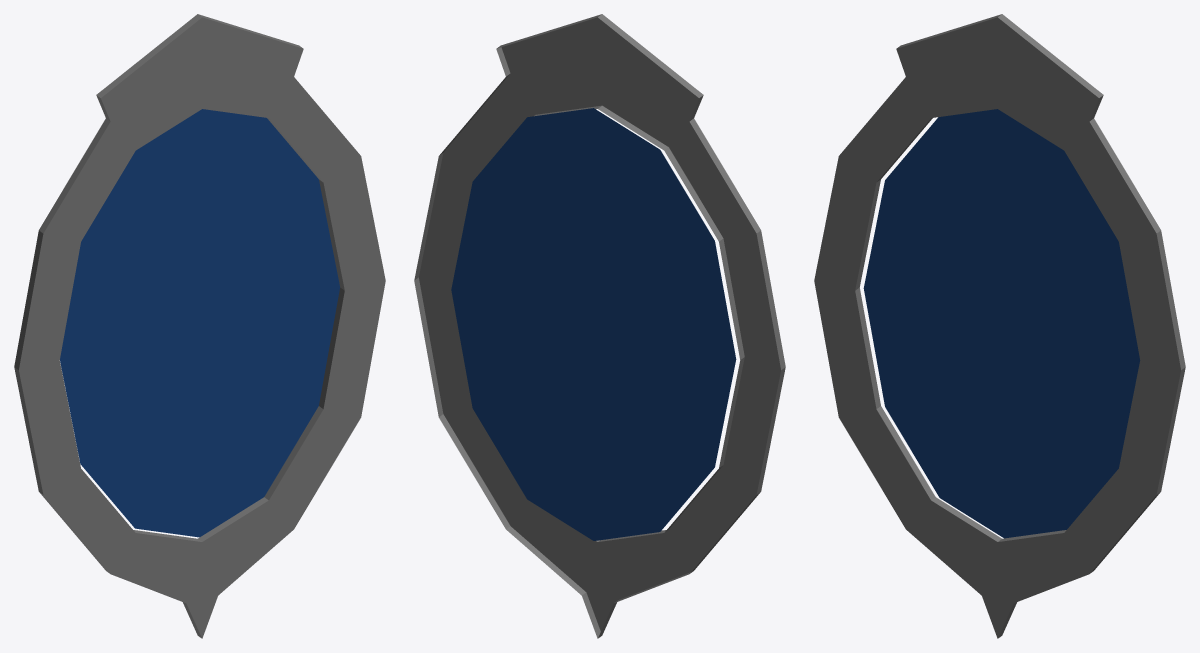
File: pinting5.FBX
3 renders of one model, left to right at view 1: azimuth 30°, elevation 25°; view 2: azimuth 150°, elevation 25°; view 3: azimuth 330°, elevation 25°, orthographic.
Parts seen in each view (by area): view 1: pinting5; view 2: pinting5; view 3: pinting5.
Part boxes in pixels (bbox=[...]): pinting5: bbox=[14, 14, 385, 638]; pinting5: bbox=[414, 14, 785, 638]; pinting5: bbox=[814, 14, 1185, 638].
Size of the model in its own units: 45.9 by 74.3 by 1.
